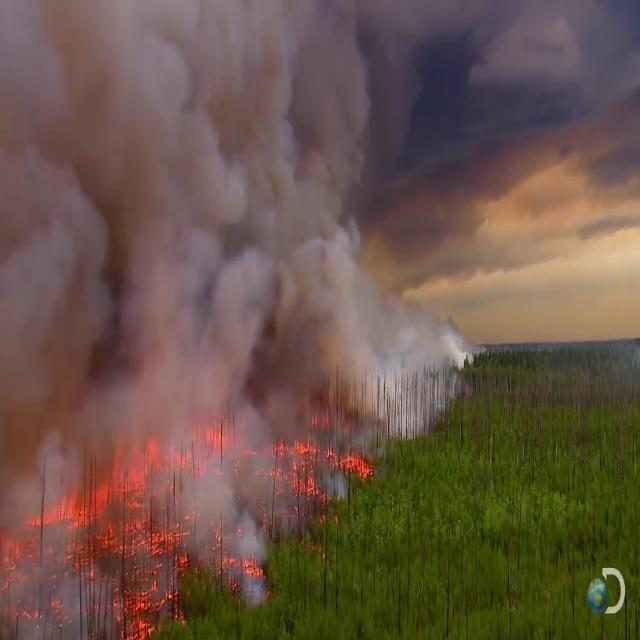Fire: (341, 452, 371, 479)
Smoke: (0, 0, 366, 372), (343, 6, 640, 220), (358, 294, 481, 424)
